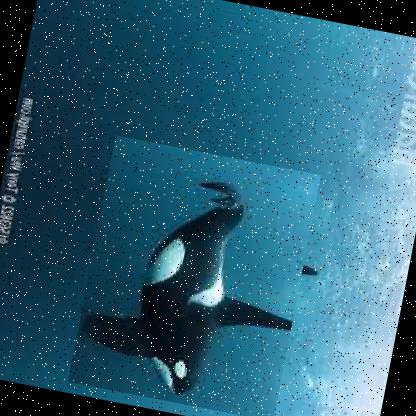killer_whale: (67, 132, 322, 415)
